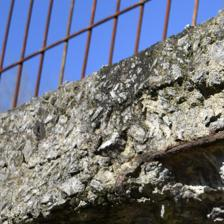Crack: (5, 86, 91, 137), (64, 70, 92, 108)
